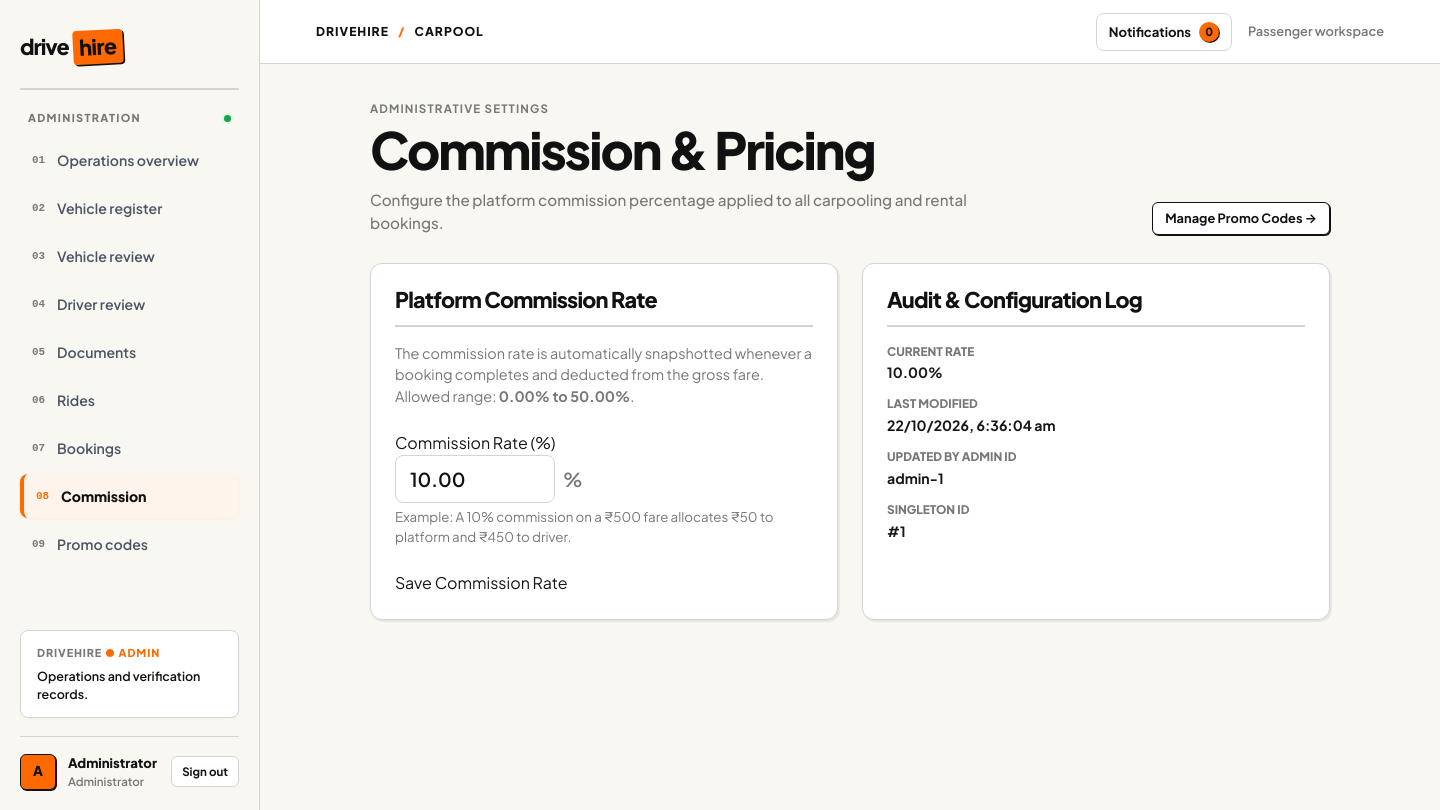
Scenario: F06 Payments Frontend Flows › renders AdminCommissionPage and allows updating the commission rate
The image size is (1440, 810).
Check: the heading "Commission & Pricing" is shown, box x1=370 y1=117 x2=874 y2=181
Replace the text in the number field labelled "Commission Rate (%)" with "15" at (475, 479), box x1=395 y1=455 x2=555 y2=503
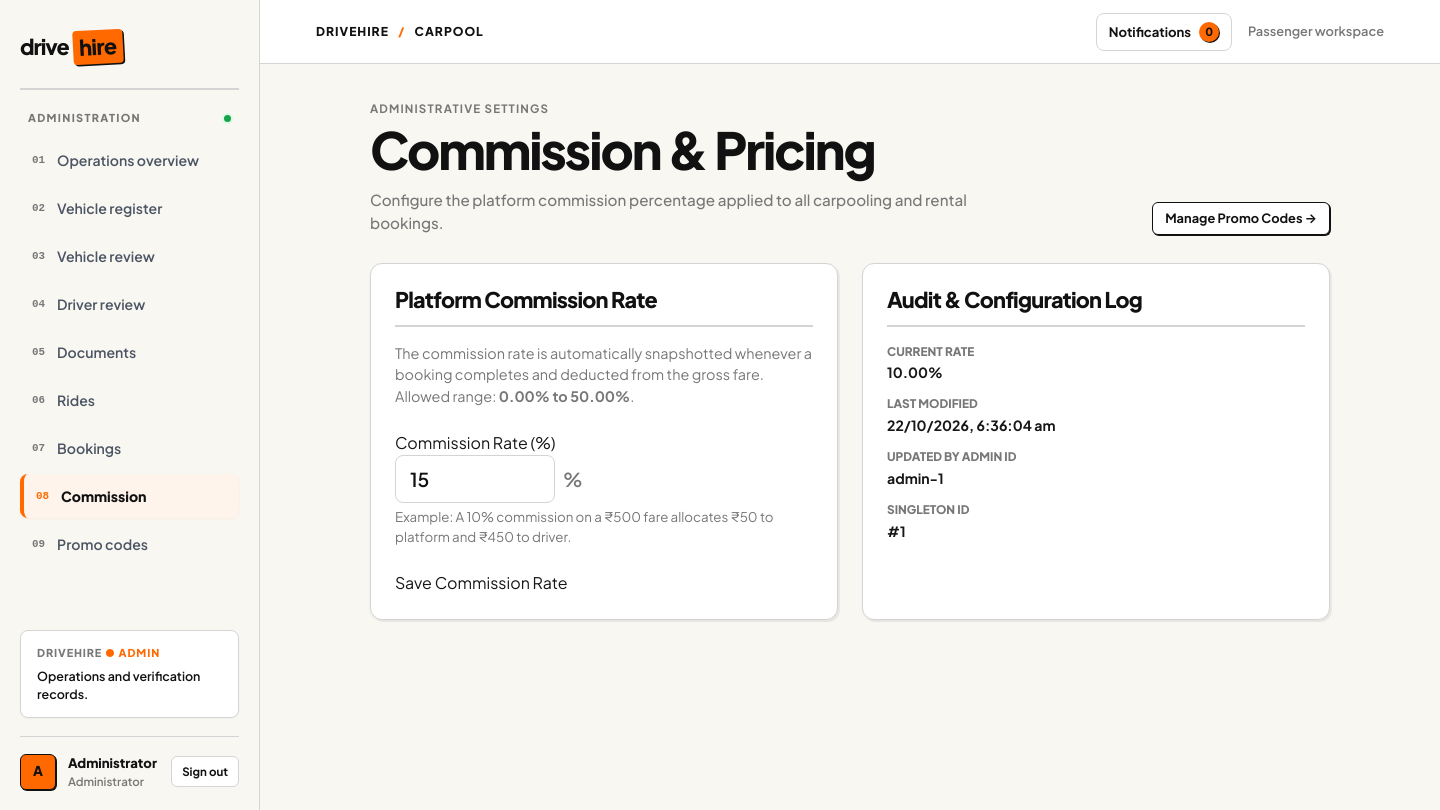
Click the button "Save Commission Rate" at (481, 583), box x1=395 y1=571 x2=568 y2=595
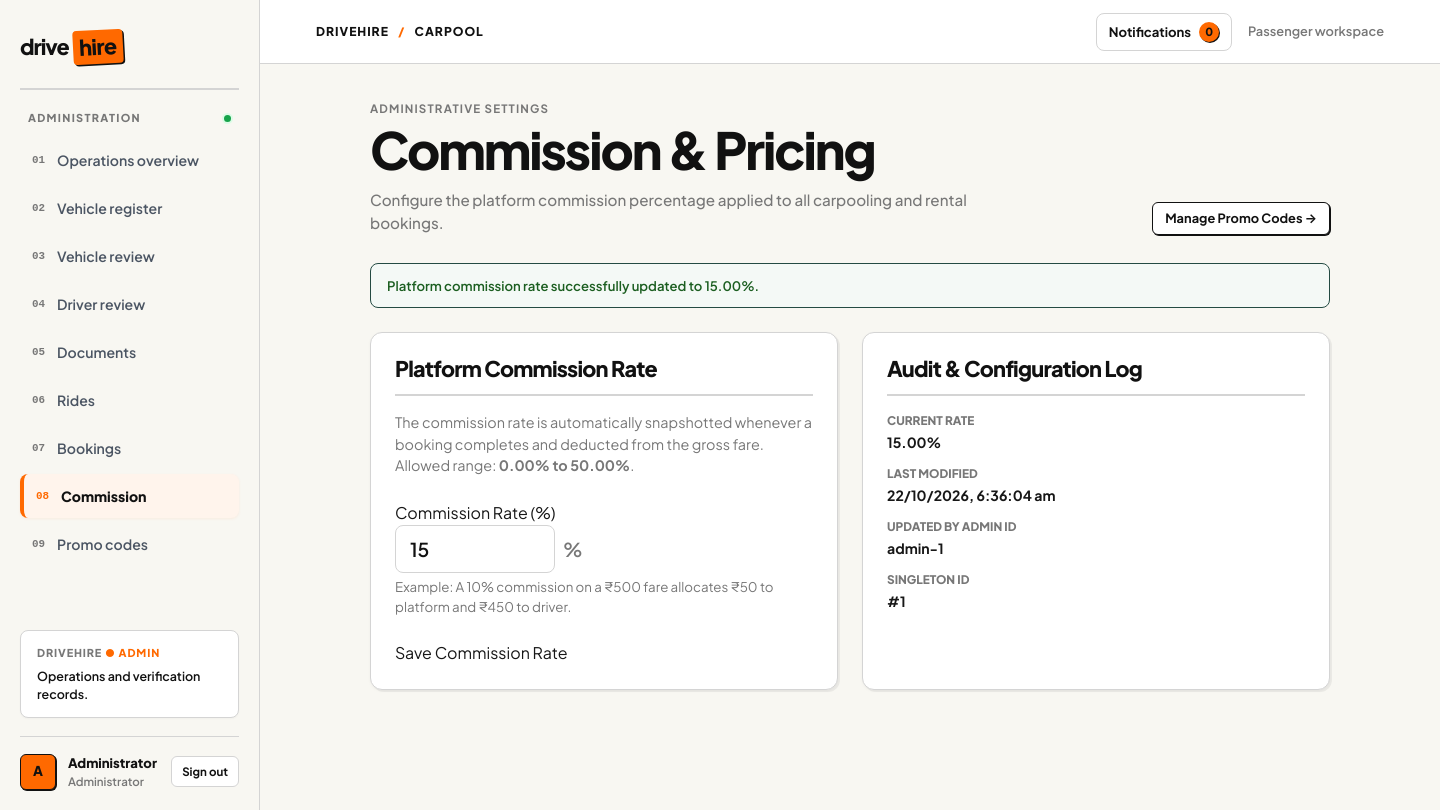
Check: the text "Platform commission rate successfully updated to 15.00%." is shown, box x1=370 y1=263 x2=1330 y2=308
